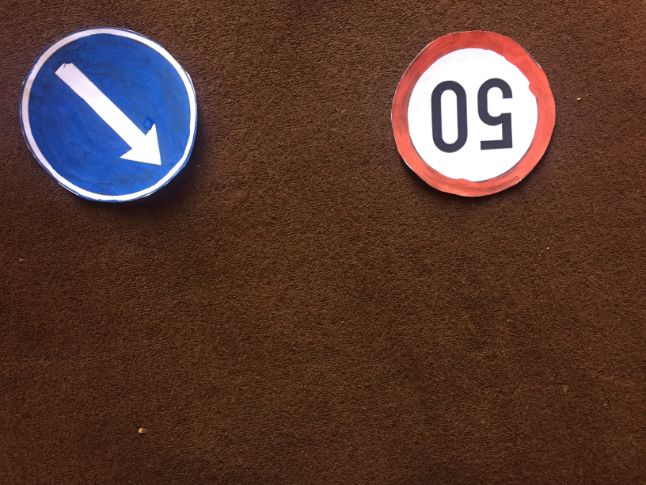go-stright: (20, 30, 199, 208)
speed-50: (393, 32, 556, 198)
